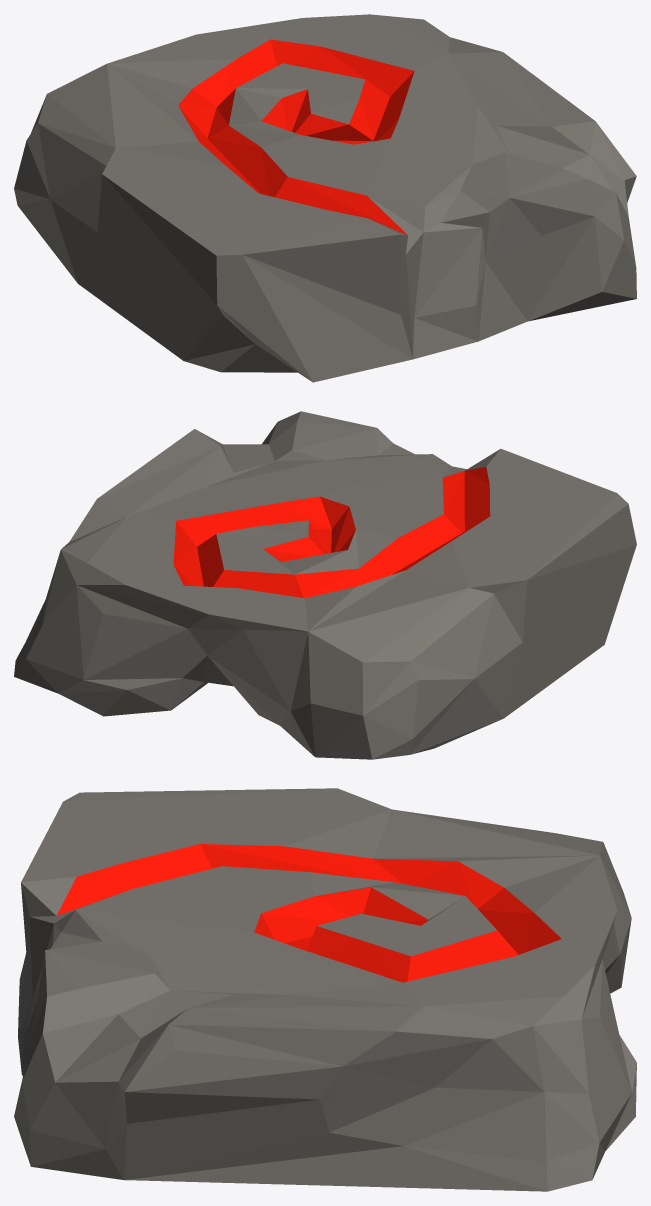
The model's file is SM_Env_Rune_Square_01.glb.
The picture shows the model from 3 angles, top to bottom: view 1: azimuth 30°, elevation 25°; view 2: azimuth 150°, elevation 25°; view 3: azimuth 270°, elevation 25°; orthographic projection. The views are drawn at different scales.
Parts seen in each view (by area): view 1: SM_Env_Rune_Square_01; view 2: SM_Env_Rune_Square_01; view 3: SM_Env_Rune_Square_01.
Boxes of the visible parts, x1,y1,x2,y2 form: SM_Env_Rune_Square_01: [14, 14, 636, 382]; SM_Env_Rune_Square_01: [14, 411, 636, 759]; SM_Env_Rune_Square_01: [14, 788, 636, 1191].
Size of the model in its own units: 0.01 by 0.00281 by 0.0104.
Materials: 1 (1 with a texture image).
